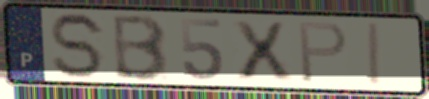5: (179, 16, 226, 82)
B: (112, 12, 172, 83)
I: (367, 21, 384, 89)
P: (297, 20, 350, 85)
S: (48, 10, 108, 81)
X: (229, 18, 296, 82)
